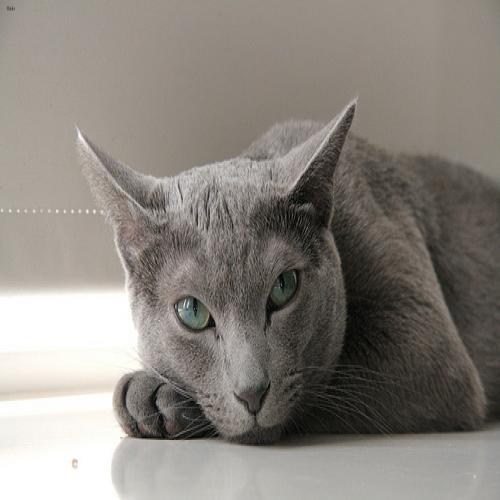rblue: (63, 98, 367, 463)
